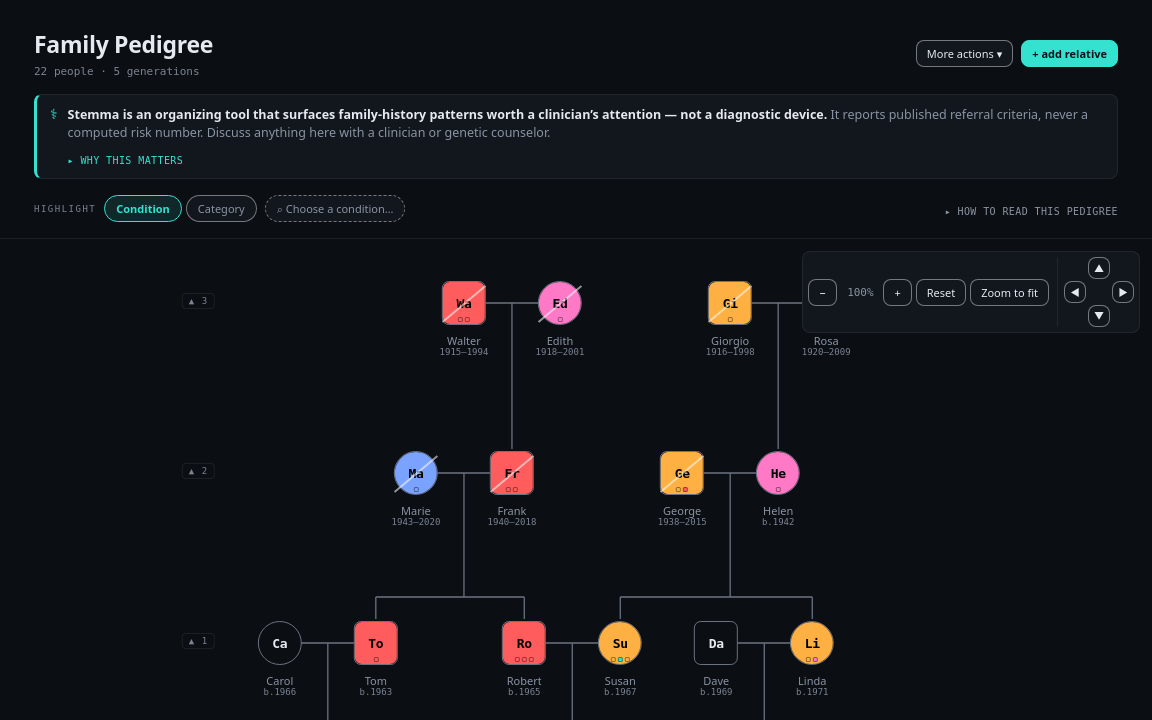
Test: PedigreeView › names every condition so a highlight matching a non-first condition is still explained
This screenshot has width=1152, height=720.
Click the button "⌕ Choose a condition…".
click(335, 209)  # box 265,195 -> 406,222
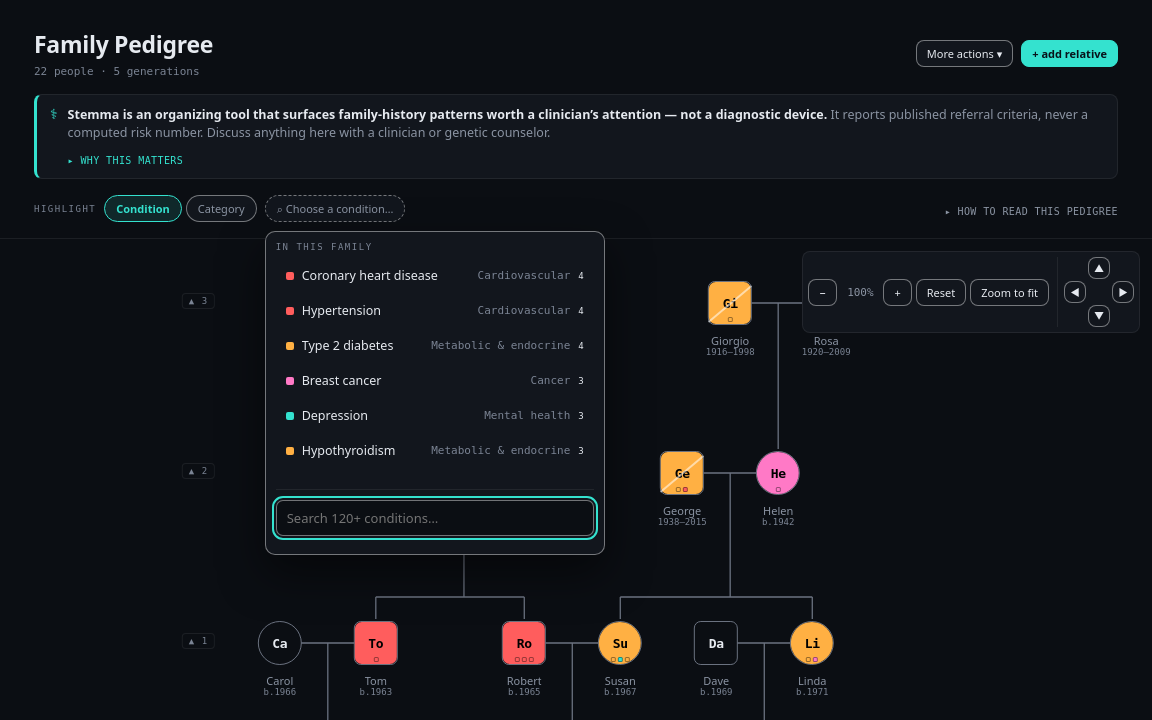
Click the button with aria-label "Breast cancer,".
click(342, 381)  # box 276,364 -> 594,397
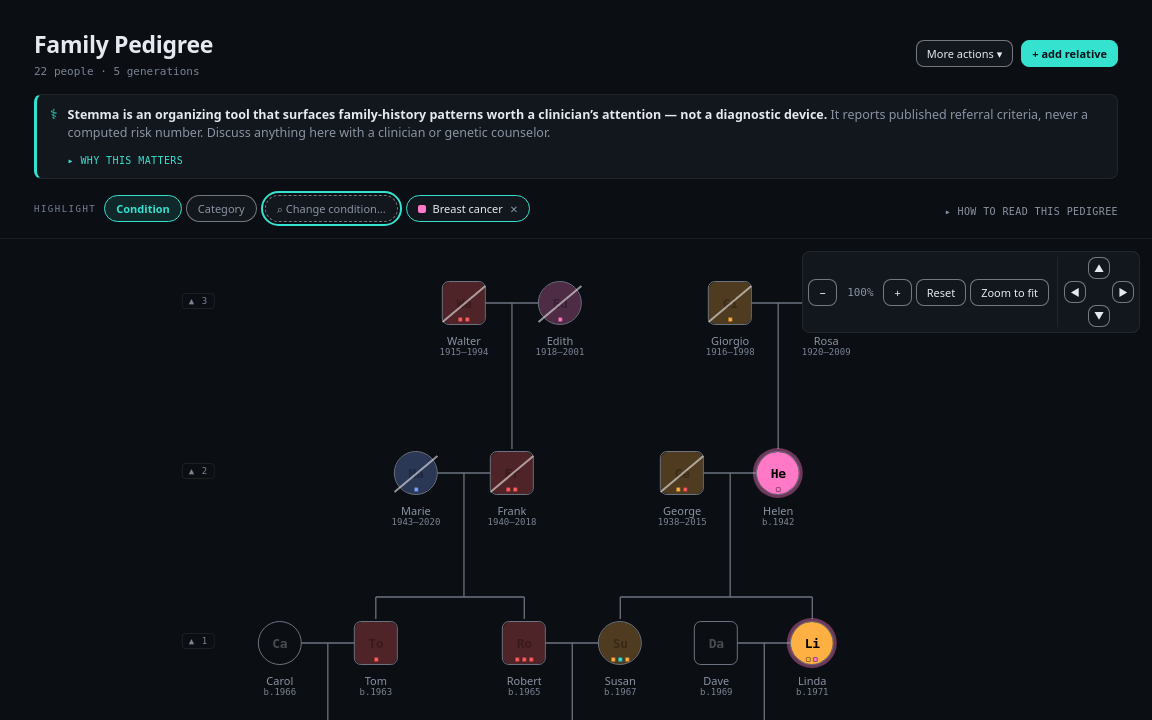
Expected: the button "Li" is shown, 790,621 -> 834,665
